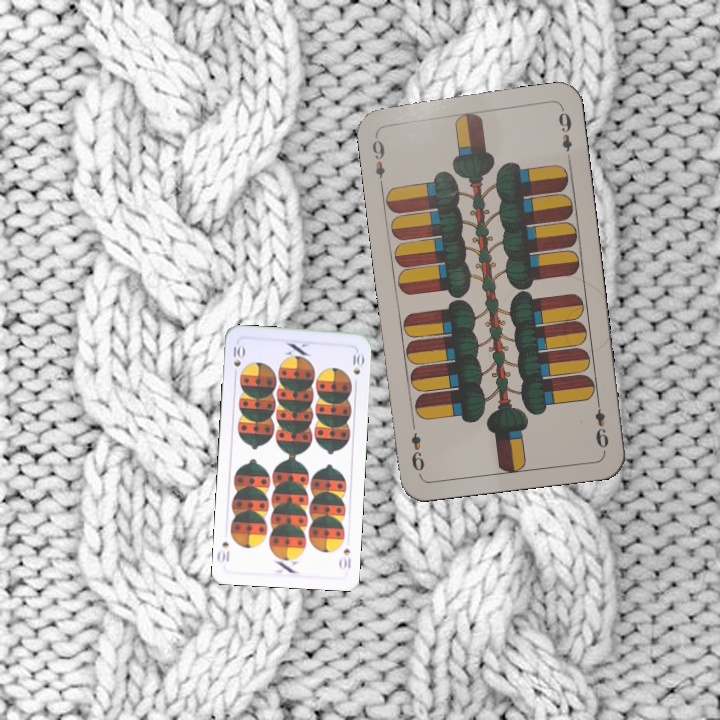E9: (591, 394, 612, 453), (368, 129, 387, 188)
S10: (336, 544, 353, 572), (229, 342, 246, 369)
